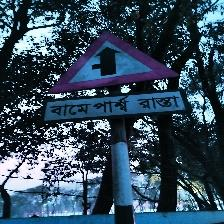Side-road-left: (43, 29, 187, 125)
